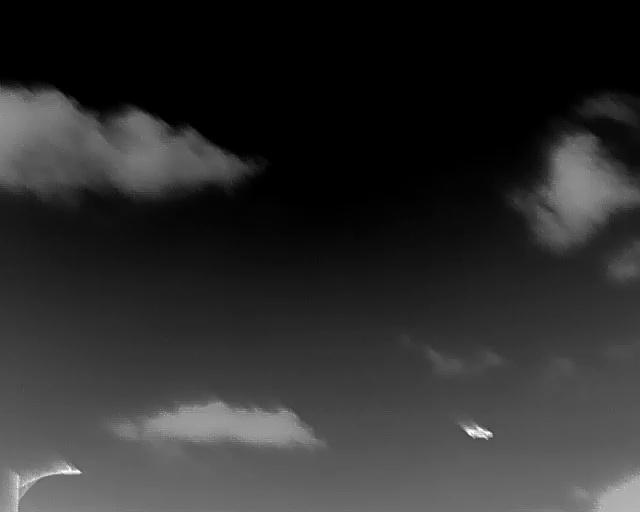fpv-drone: (460, 421, 493, 439)
